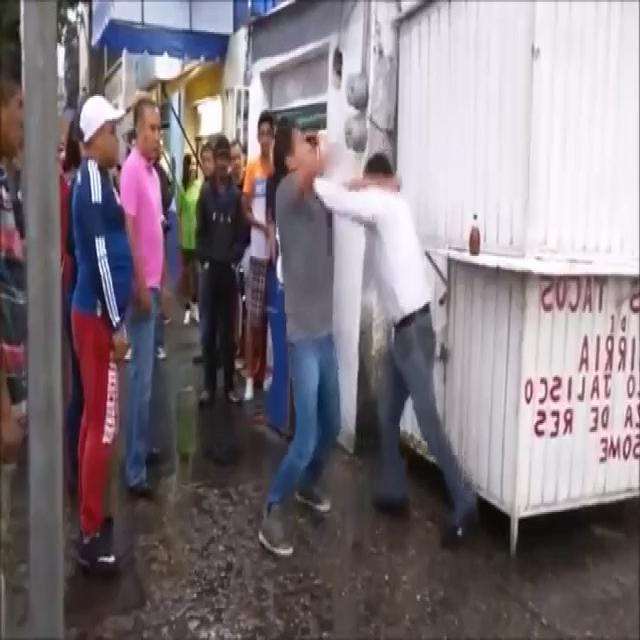non-violence: (74, 92, 164, 578), (194, 111, 272, 407), (1, 81, 28, 480)
violence: (258, 119, 476, 554)
